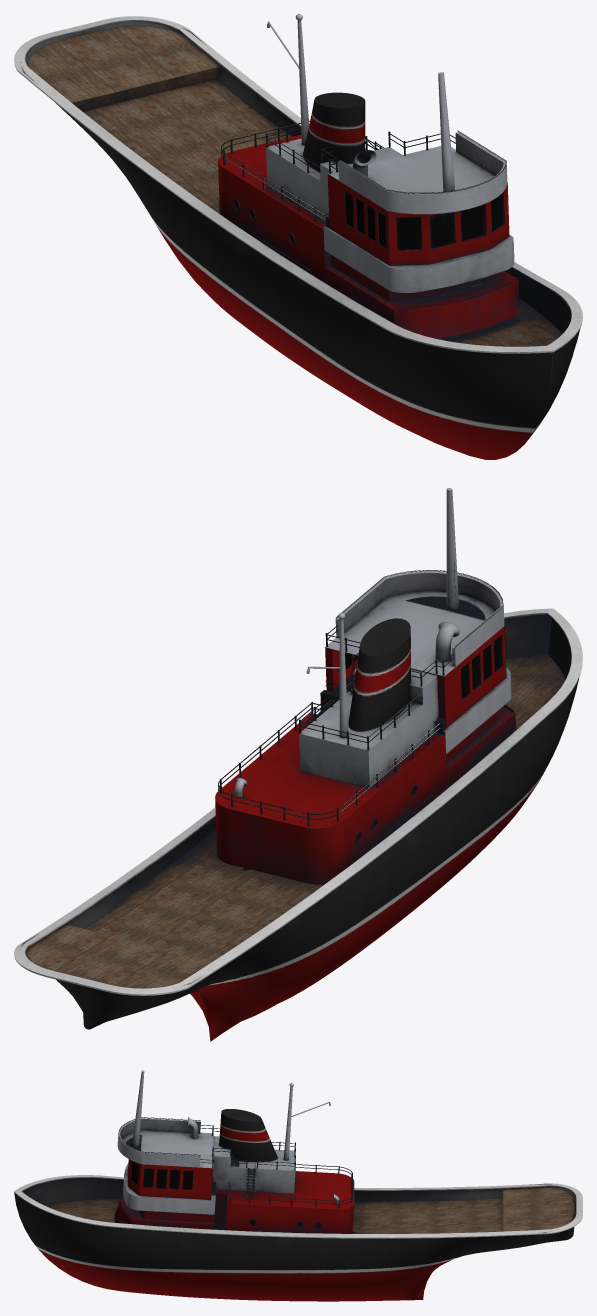
File: Boat07.dae
3 renders of one model, top to bottom at view 1: azimuth 30°, elevation 25°; view 2: azimuth 150°, elevation 25°; view 3: azimuth 270°, elevation 25°, orthographic. The views are drawn at different scales.
Visible parts, largest first — view 1: Boat07_Elements42_Elements123; view 2: Boat07_Elements42_Elements123; view 3: Boat07_Elements42_Elements123.
Part boxes in pixels (x1,y1,x2,y2): Boat07_Elements42_Elements123: (14,14,582,459); Boat07_Elements42_Elements123: (14,488,582,1041); Boat07_Elements42_Elements123: (14,1070,582,1301).
Bounding box in the file's own units: 510 × 2400 × 1062.
Materials: 1 (1 with a texture image).
